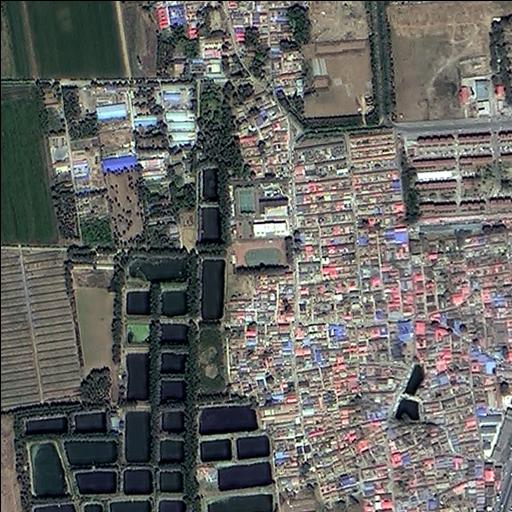school: (232, 179, 295, 276)
